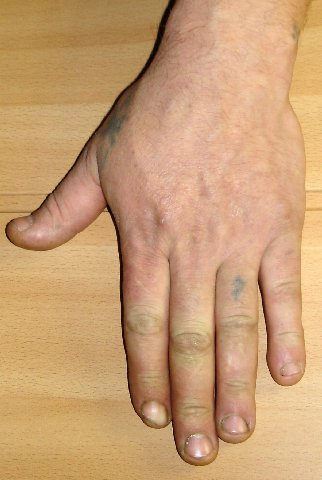tatu9_krest: (230, 276, 248, 303)
